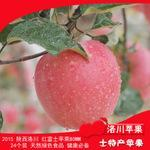apple: (34, 40, 120, 125)
